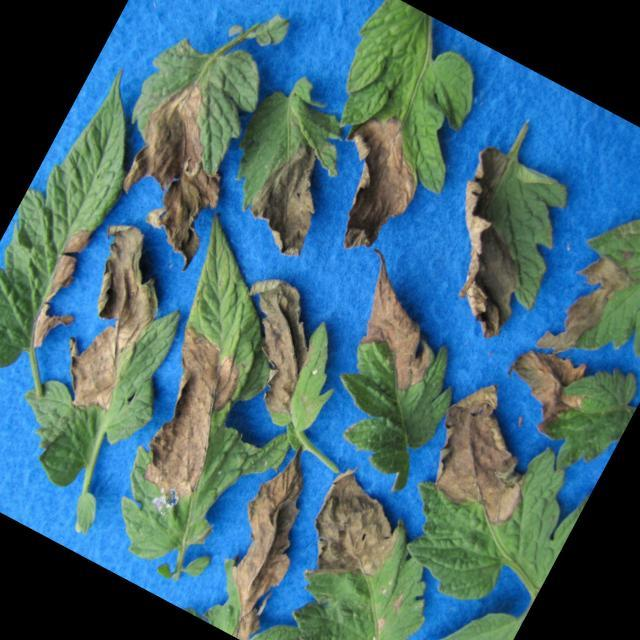Tomato late blight leaf: (64, 232, 330, 576), (0, 212, 225, 510), (262, 0, 508, 269), (73, 0, 315, 272), (0, 73, 175, 399), (395, 120, 602, 356), (292, 276, 492, 492), (186, 65, 384, 272), (247, 469, 480, 640), (193, 262, 390, 458), (533, 181, 640, 399), (483, 327, 640, 472)
